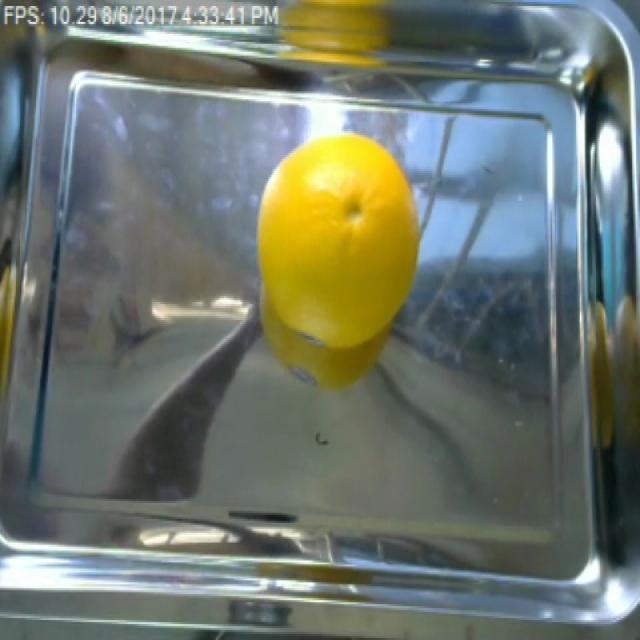Fruit: (253, 123, 428, 392), (267, 0, 412, 80)
